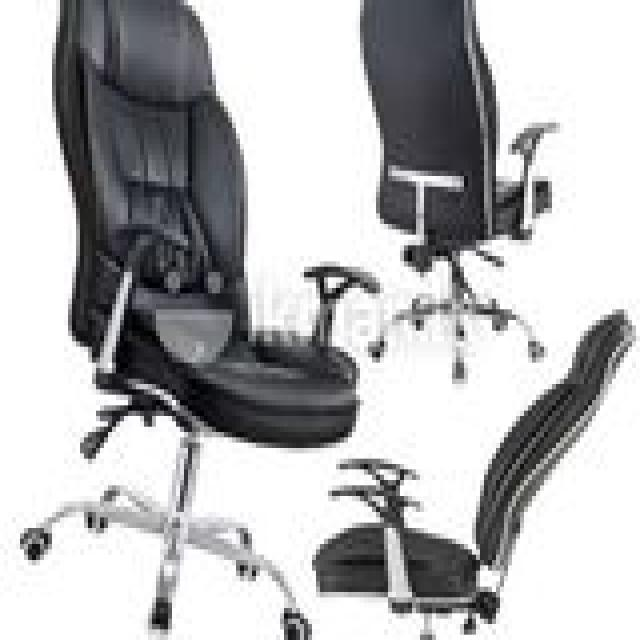others: (24, 5, 640, 640)
